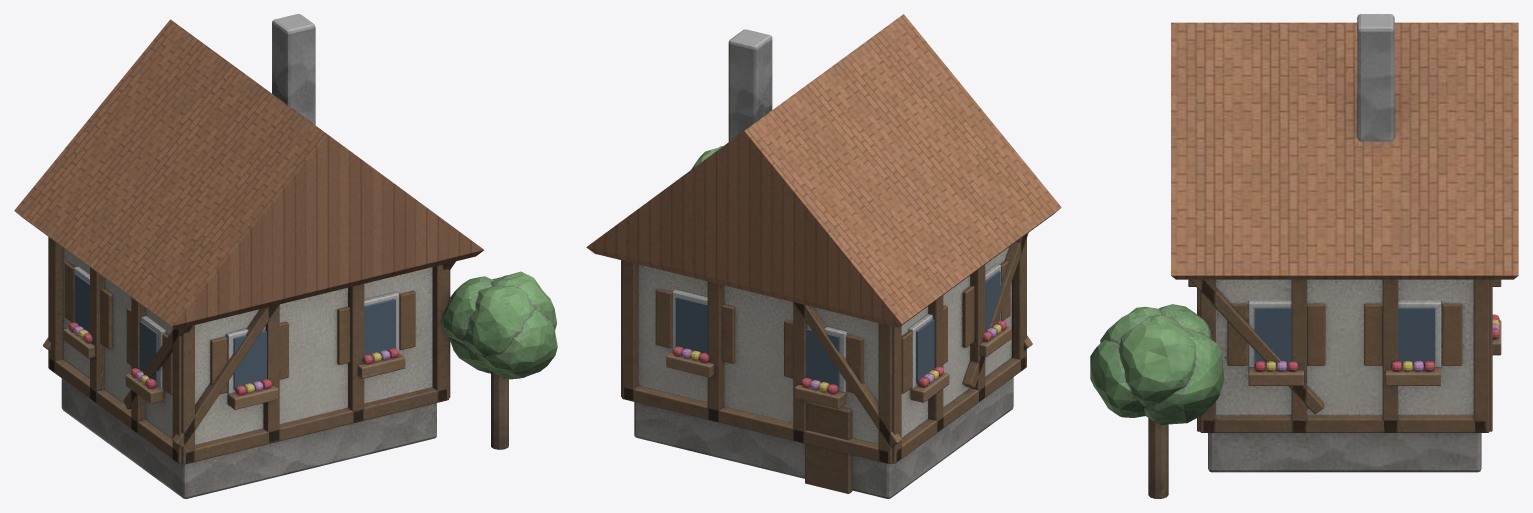
Rendered from haus_c.glb.
The picture shows the model from 3 angles, left to right: view 1: azimuth 30°, elevation 25°; view 2: azimuth 150°, elevation 25°; view 3: azimuth 270°, elevation 25°; orthographic projection. The views are drawn at different scales.
Parts seen in each view (by area): view 1: haus_c, haus_c_details; view 2: haus_c, haus_c_details; view 3: haus_c, haus_c_details.
Part boxes in pixels (x1,y1,x2,y2): haus_c: (14,14,557,498); haus_c_details: (74,273,395,389); haus_c: (586,14,1061,498); haus_c_details: (675,271,1000,388); haus_c: (1090,14,1518,498); haus_c_details: (1254,307,1434,363).
Bounding box in the file's own units: 0.7674 × 0.74 × 0.6899.
2 materials, 1 textured.
